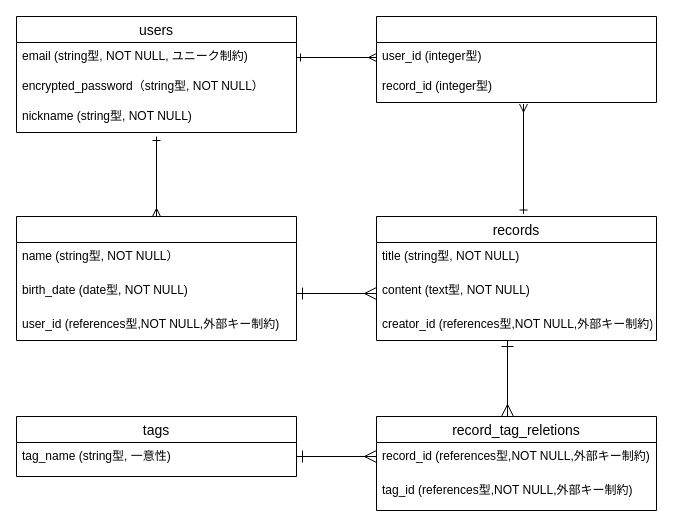
Some shapes in this 673 by 527 pixel diagram are drawn without their labels. Here are the shapes that lost their labels. From the top down, the box of each, then its label:
(376, 16, 656, 102): favorites
(16, 216, 296, 340): creators
